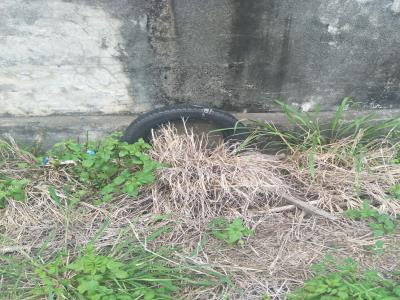tire: (116, 102, 255, 156)
